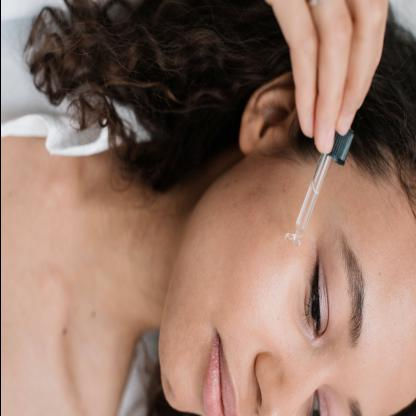Eye: (302, 254, 330, 340), (307, 390, 331, 415)
Mouth: (199, 330, 238, 415)
Nose: (253, 351, 314, 415)
